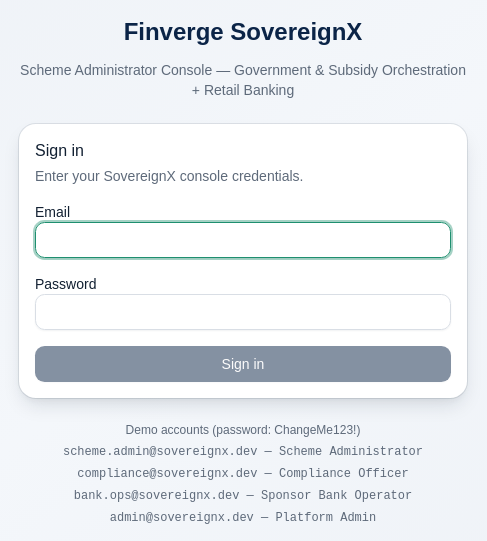
Test: SovereignX Console › shows the login screen when no session is stored, with Sign in disabled until both fields are filled
Expected: the text "Finverge SovereignX" is shown, [124,16,362,48]
Expected: the button "Sign in" is disabled, [35,346,451,382]
Type "scheme.admin@sovereignx.dev" into the field labelled "Email" at (243, 240), box [35,222,451,258]
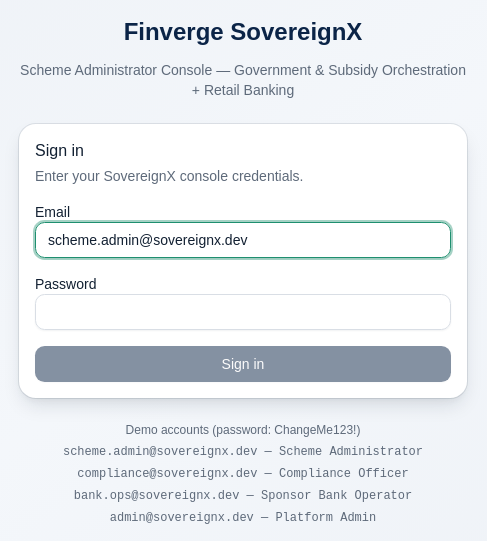
Type "ChangeMe123!" into the password field labelled "Password" at (243, 312), box [35,294,451,330]
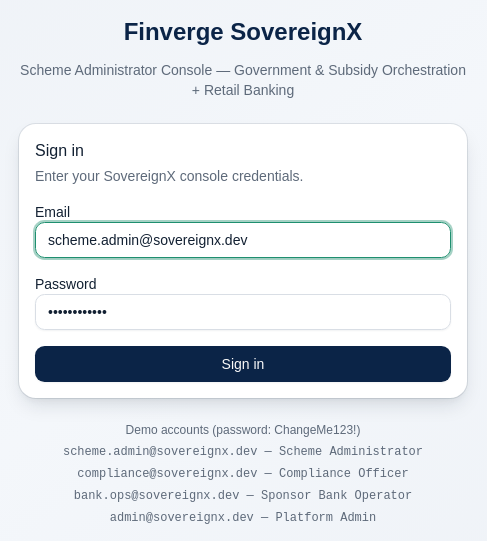
Result: the button "Sign in" is enabled at [35,346,451,382]
